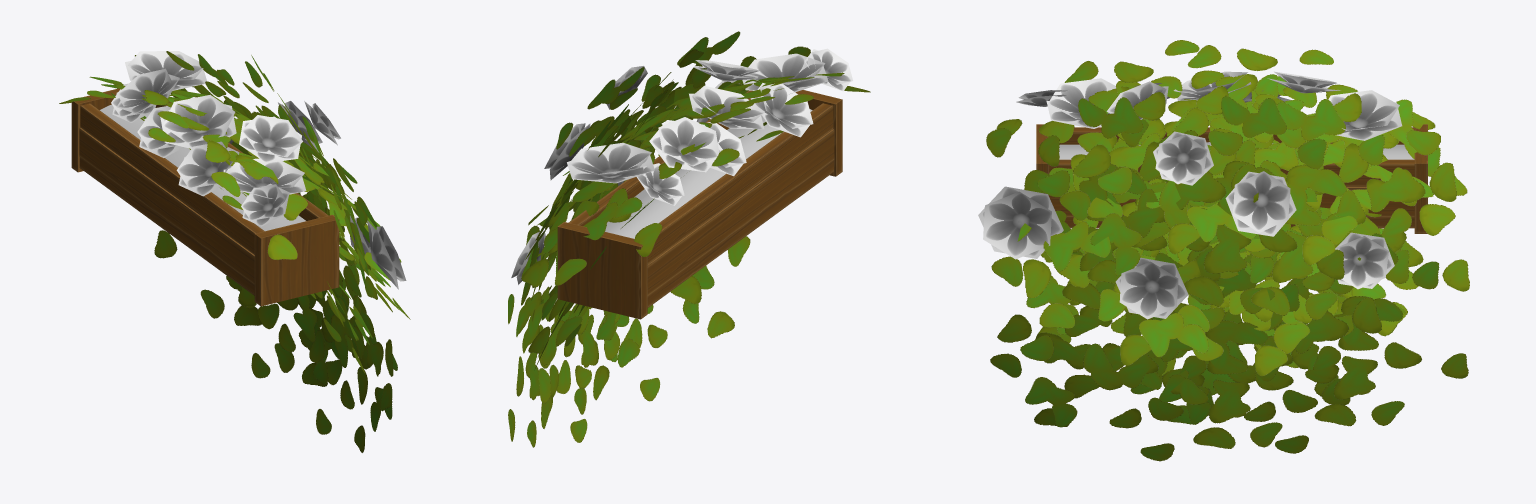
The model's file is SM_FlowerPlanter_02.fbx.
3 views of the same model, side by side, from view 1: azimuth 30°, elevation 25°; view 2: azimuth 150°, elevation 25°; view 3: azimuth 270°, elevation 25° (orthographic). The views are drawn at different scales.
Parts seen in each view (by area): view 1: SM_FlowerPlanter_02_LOD0; view 2: SM_FlowerPlanter_02_LOD0; view 3: SM_FlowerPlanter_02_LOD0.
Boxes of the visible parts, x1,y1,x2,y2 form: SM_FlowerPlanter_02_LOD0: (59, 51, 410, 452); SM_FlowerPlanter_02_LOD0: (508, 31, 870, 447); SM_FlowerPlanter_02_LOD0: (978, 40, 1469, 461).
Size of the model in its own units: 144 by 249 by 202.
